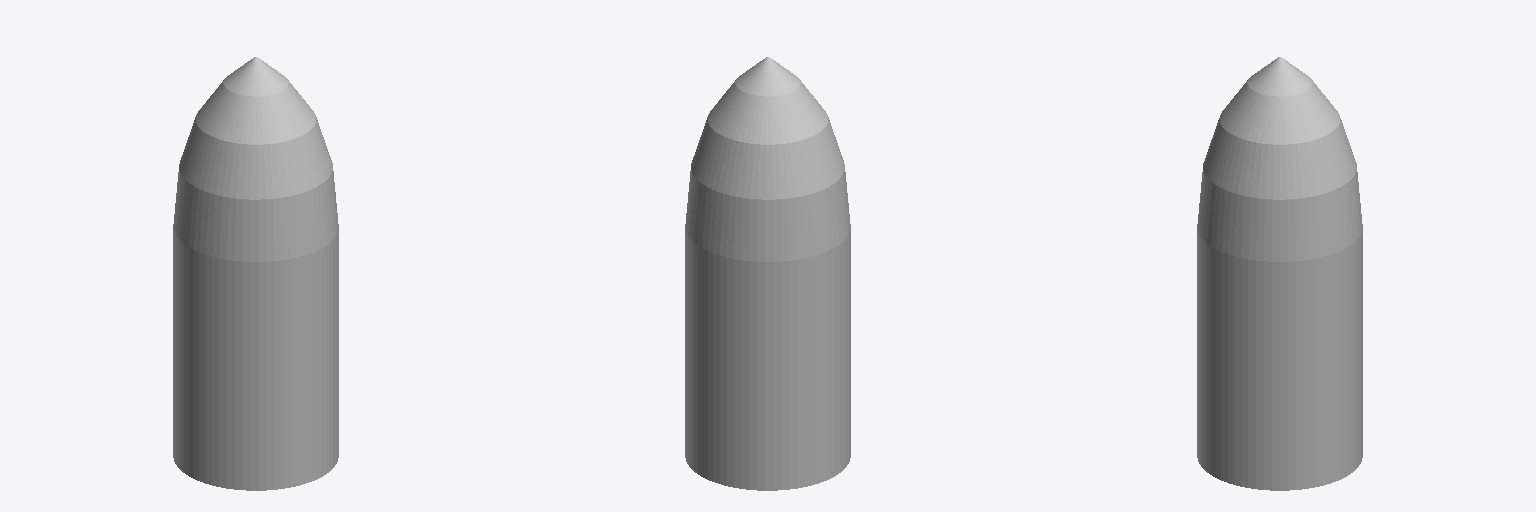
File: bullet.obj
3 views of the same model, side by side, from view 1: azimuth 30°, elevation 25°; view 2: azimuth 150°, elevation 25°; view 3: azimuth 270°, elevation 25° (orthographic).
Visible parts, largest first — view 1: Cylinder; view 2: Cylinder; view 3: Cylinder.
Boxes of the visible parts, <box> form: Cylinder: <box>173,57,338,490</box>; Cylinder: <box>685,57,850,490</box>; Cylinder: <box>1197,57,1362,490</box>.
Size of the model in its own units: 0.7742 by 2.06 by 0.7742.